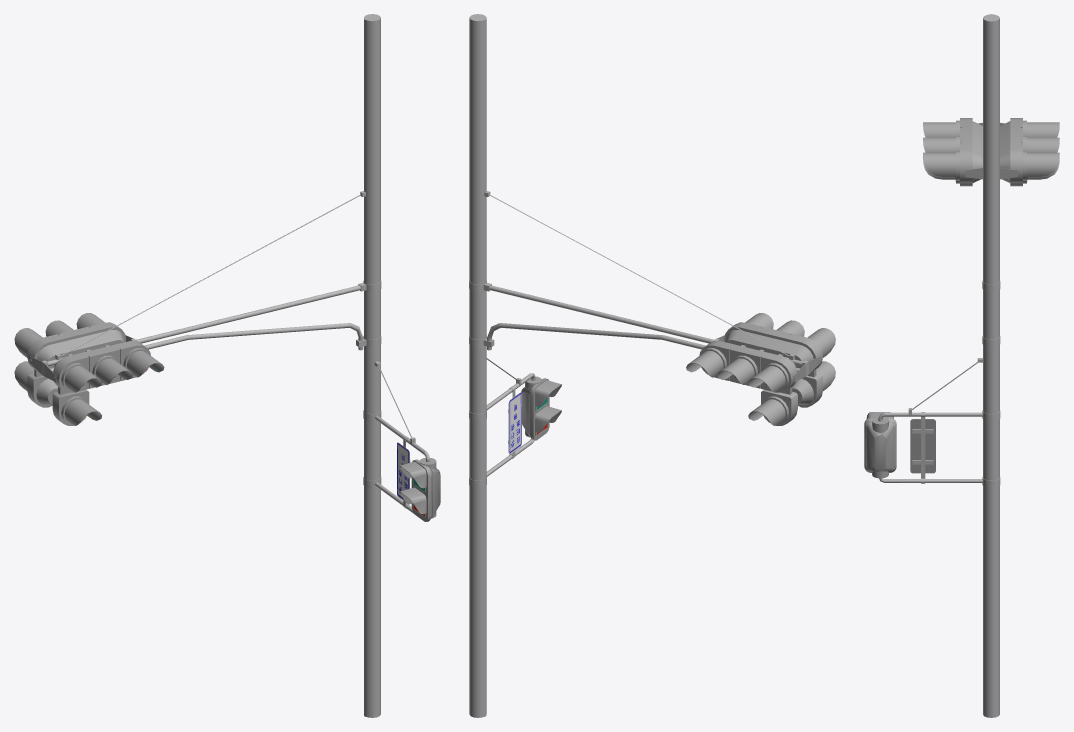
Rendered from traffic light2.fbx.
3 views of the same model, side by side, from view 1: azimuth 30°, elevation 25°; view 2: azimuth 150°, elevation 25°; view 3: azimuth 270°, elevation 25° (orthographic).
Parts seen in each view (by area): view 1: intersection2:obj1; view 2: intersection2:obj1; view 3: intersection2:obj1.
Boxes of the visible parts, <box> form: intersection2:obj1: <box>14,14,440,717</box>; intersection2:obj1: <box>469,14,835,717</box>; intersection2:obj1: <box>864,14,1059,717</box>.
Size of the model in its own units: 57.38 by 113 by 28.62.
